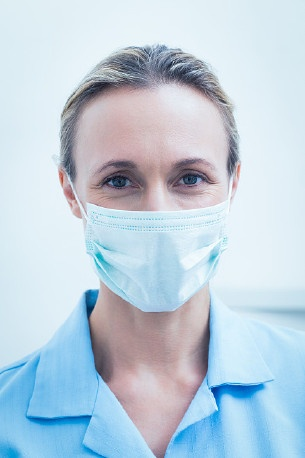Mask: (76, 152, 238, 315)
